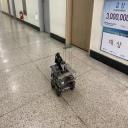cart: (49, 63, 77, 97)
